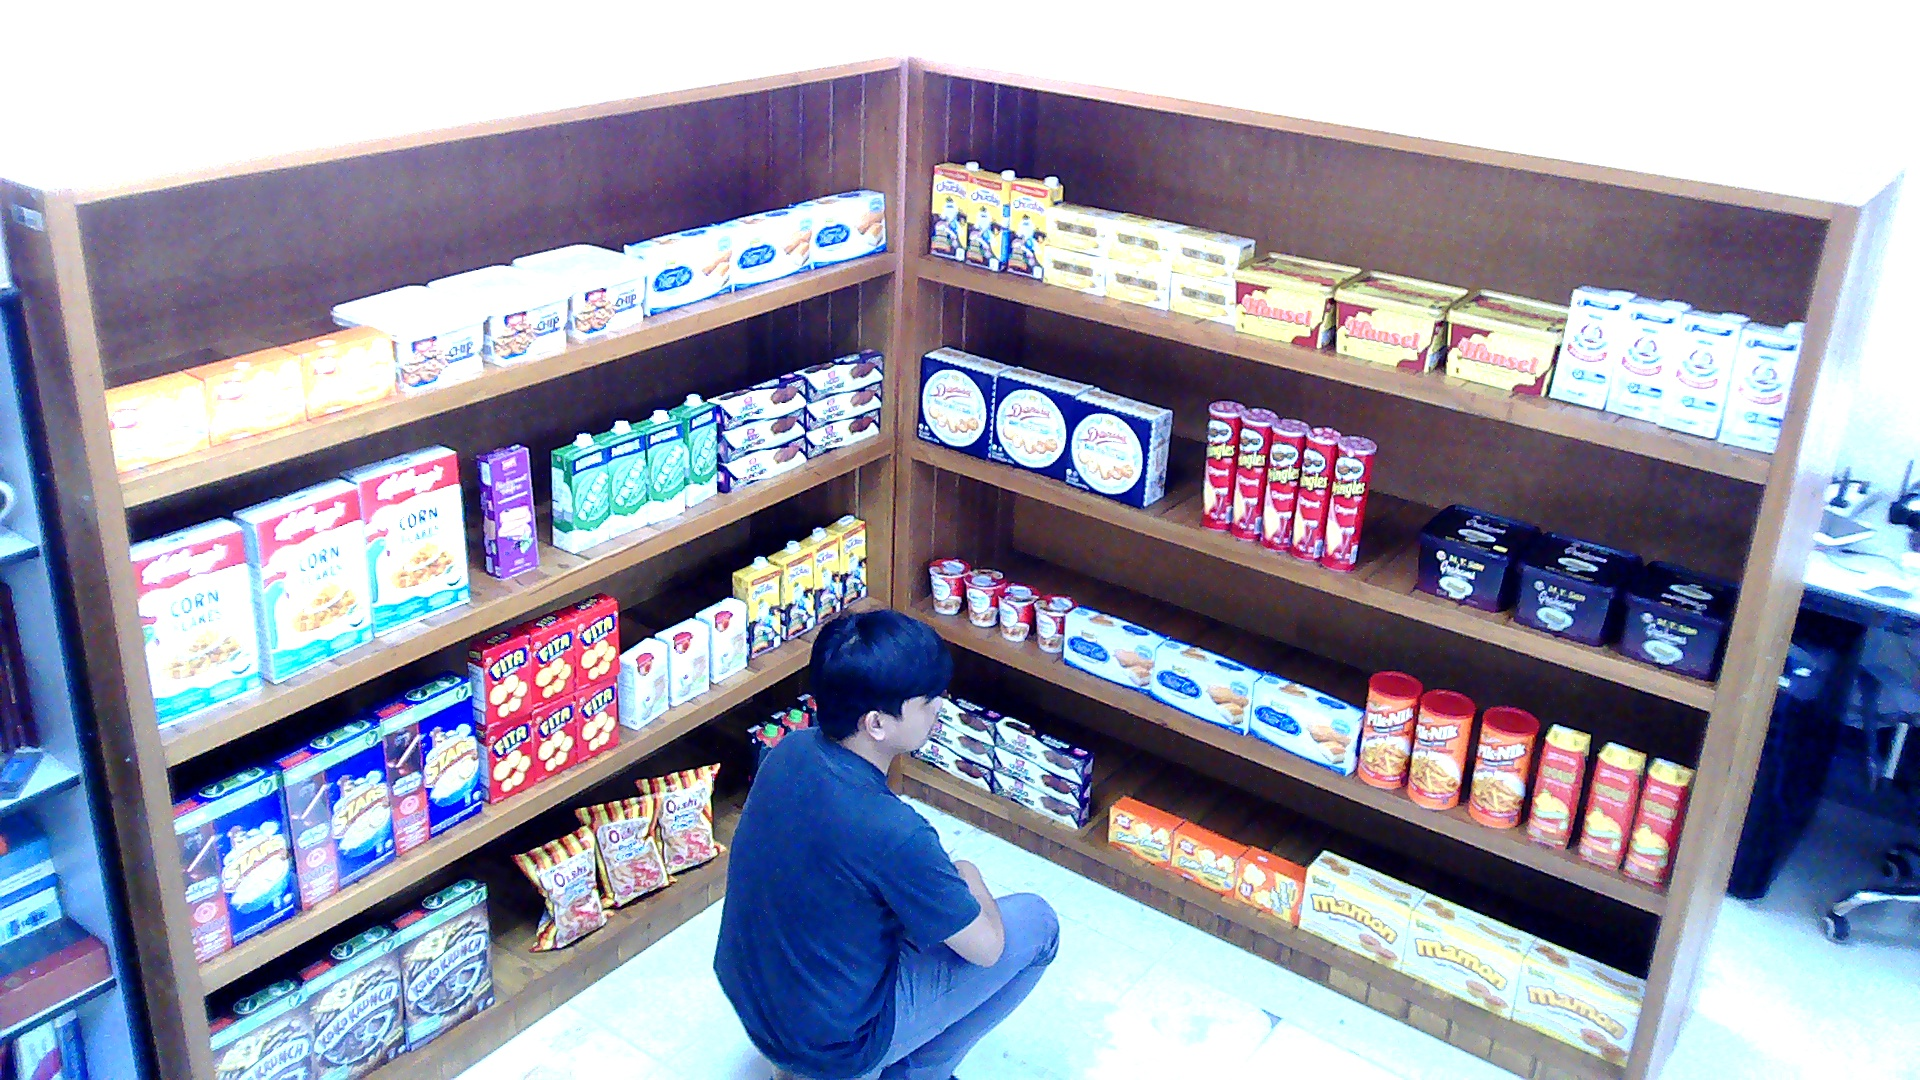Bear brand: (1659, 308, 1749, 436), (1605, 297, 1692, 423), (1548, 285, 1638, 407), (1719, 322, 1803, 452)
Buttercake: (1248, 670, 1365, 773), (1148, 636, 1265, 733), (624, 223, 732, 315), (1062, 603, 1170, 695), (714, 205, 810, 291), (789, 188, 885, 267)
Butterlicious: (180, 346, 306, 445), (102, 369, 207, 472), (279, 324, 393, 418), (1170, 819, 1251, 895), (1107, 794, 1185, 868), (1236, 846, 1305, 922)
Camomille: (1170, 224, 1254, 285), (1106, 211, 1187, 270), (1044, 200, 1122, 254), (1169, 272, 1232, 324), (1104, 259, 1170, 308), (1044, 245, 1104, 294)
Choco Crunchies: (996, 715, 1092, 785), (993, 746, 1089, 807), (705, 370, 804, 429), (989, 772, 1088, 828), (717, 434, 804, 493), (792, 347, 882, 403), (717, 407, 804, 461), (908, 740, 989, 792), (807, 407, 879, 459), (807, 382, 882, 431), (939, 693, 1002, 745), (929, 722, 992, 767)
Chocolate Chips: (329, 286, 488, 392), (425, 265, 572, 364), (510, 243, 648, 337)
Chuckie: (1004, 175, 1061, 278), (962, 168, 1019, 269), (929, 161, 980, 260), (732, 555, 780, 656), (768, 540, 813, 641), (825, 513, 867, 607), (801, 526, 840, 623)
Danisa: (1064, 387, 1169, 506), (990, 364, 1092, 481), (915, 346, 1014, 459)
Fita: (465, 627, 531, 728), (513, 609, 573, 706), (558, 594, 618, 688), (476, 711, 533, 803), (530, 693, 575, 781), (576, 675, 618, 761)
Fresh Milk: (590, 420, 647, 535), (552, 432, 609, 551), (630, 407, 684, 522), (669, 393, 717, 506)
Grahams: (1617, 558, 1740, 680), (1514, 530, 1643, 645), (1416, 504, 1542, 612)
Hansel: (1331, 270, 1466, 371), (1445, 288, 1568, 396), (1230, 251, 1362, 348)
Head: (807, 610, 954, 774)
Honey Stars: (170, 758, 299, 963), (261, 711, 393, 909), (359, 666, 482, 855)
Kellogg Corn Flakes: (234, 476, 372, 683), (129, 517, 261, 728), (338, 443, 467, 637)
Kimchi Noodles: (927, 555, 969, 614), (963, 566, 1005, 625), (1035, 593, 1077, 652), (996, 583, 1038, 639)
Koko Krunch: (381, 875, 492, 1053), (288, 922, 405, 1077), (207, 972, 309, 1078)
Locally Mango: (1623, 756, 1695, 884), (1524, 722, 1590, 848), (1578, 742, 1644, 868)
Mamon: (1511, 939, 1646, 1069), (1401, 891, 1536, 1017), (1299, 850, 1425, 972)
Oishi Prawn: (510, 821, 615, 949), (572, 789, 677, 908), (632, 763, 725, 873)
Pik-nik: (1467, 706, 1539, 828), (1406, 688, 1475, 807), (1356, 670, 1422, 787)
Pringles: (1320, 434, 1377, 569), (1289, 425, 1340, 560), (1230, 407, 1278, 540), (1260, 416, 1308, 549), (1200, 401, 1245, 531)
Wafer: (473, 443, 536, 576)
iHop: (654, 616, 708, 704), (618, 637, 666, 729), (696, 596, 744, 682)
